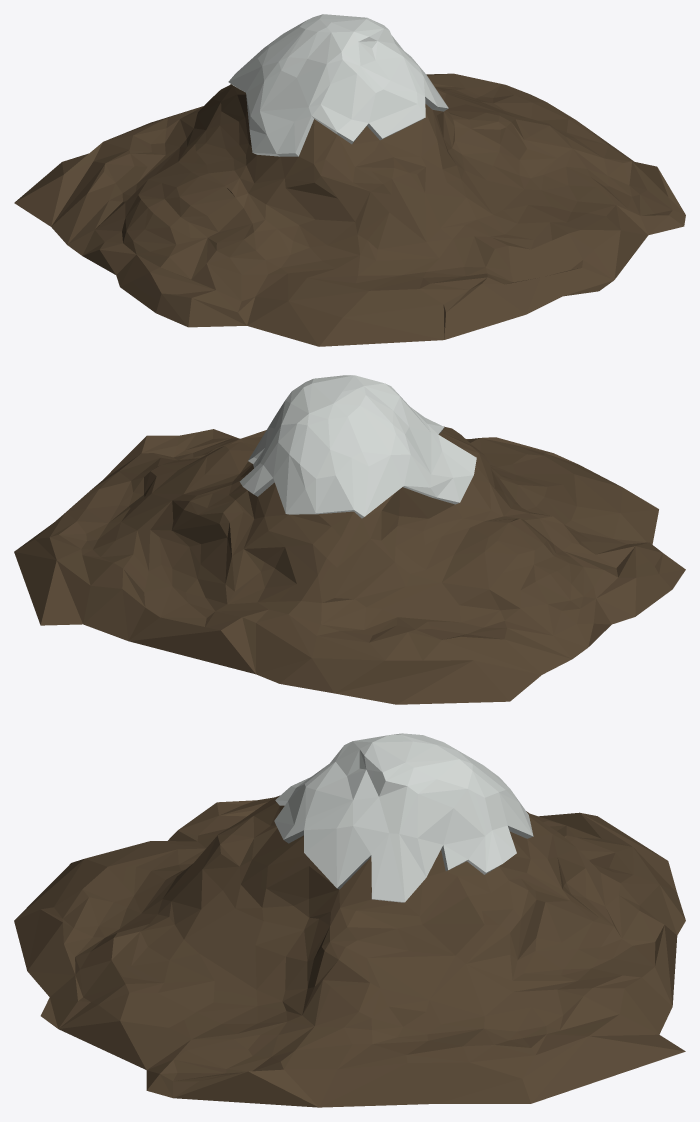
The model's file is SM_Env_HillSnow_01.gltf.
3 views of the same model, one above another, from view 1: azimuth 30°, elevation 25°; view 2: azimuth 150°, elevation 25°; view 3: azimuth 270°, elevation 25° (orthographic). The views are drawn at different scales.
Parts seen in each view (by area): view 1: SM_Env_HillSnow_01; view 2: SM_Env_HillSnow_01; view 3: SM_Env_HillSnow_01.
Boxes of the visible parts, x1,y1,x2,y2 form: SM_Env_HillSnow_01: (14, 14, 685, 346); SM_Env_HillSnow_01: (14, 375, 685, 704); SM_Env_HillSnow_01: (14, 733, 685, 1107).
Size of the model in its own units: 13.59 by 4.59 by 13.06.
1 material, 1 textured.
